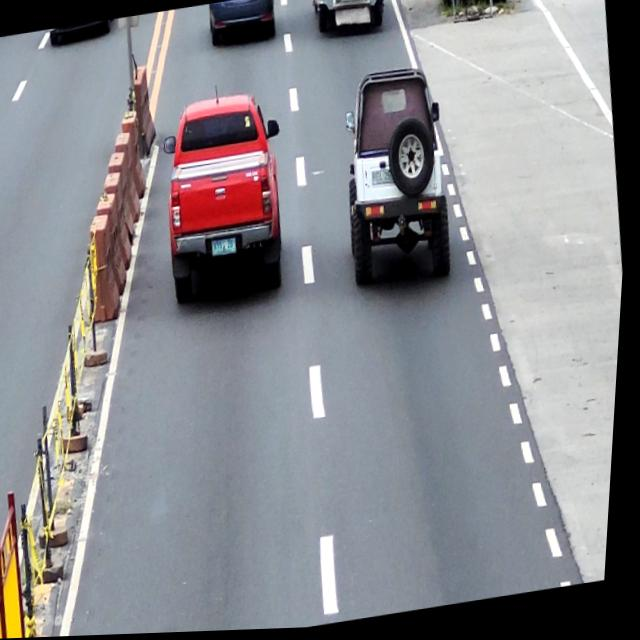Car: (153, 88, 303, 309), (331, 63, 467, 298), (206, 0, 278, 50)
License-Plate: (372, 169, 398, 189), (213, 240, 240, 258), (342, 0, 359, 5)
